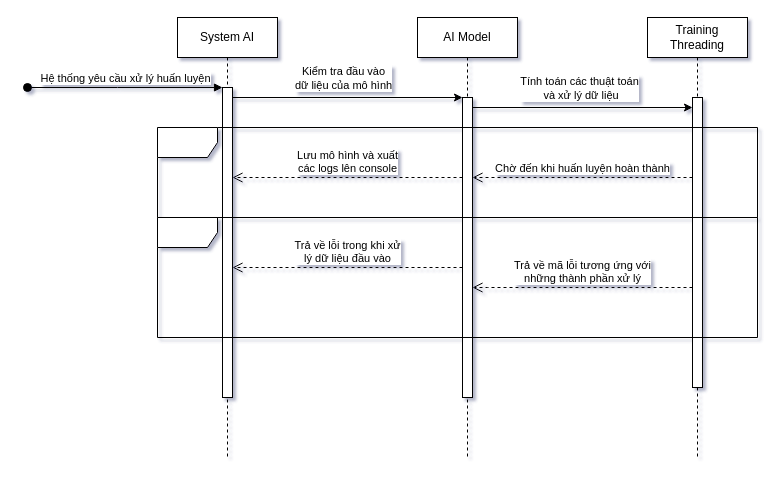
Image size: 781x481. Some labels were removed from this diagram. Each missing label, with the box of its shape:
Lỗi: (156, 216, 758, 338)
Thành công: (156, 126, 758, 218)
